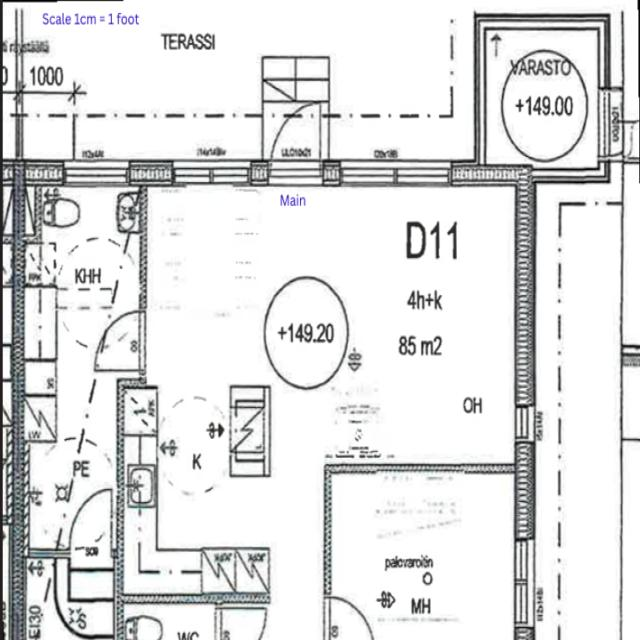main: (246, 86, 342, 200)
wall: (508, 147, 541, 410), (512, 427, 540, 565), (446, 155, 537, 195), (123, 150, 178, 194)
